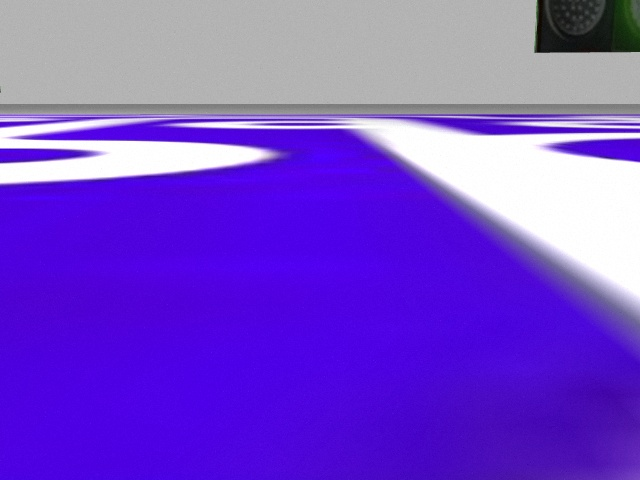green: (615, 1, 640, 50)
